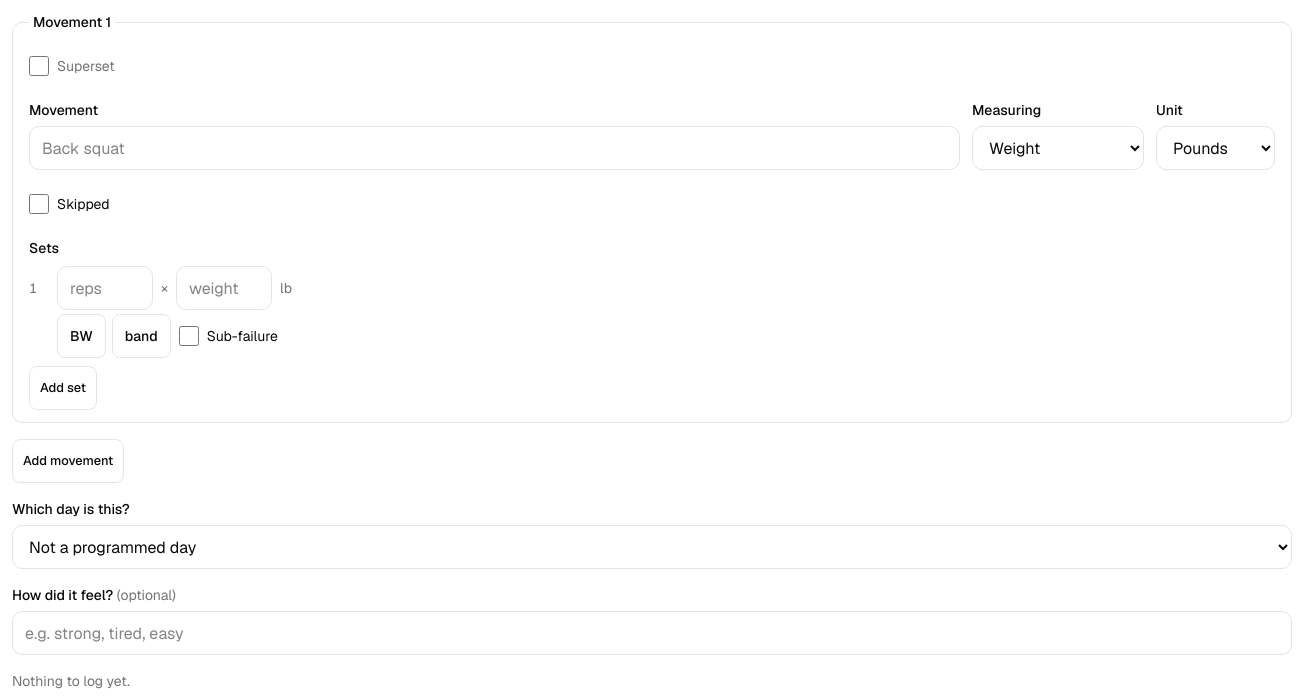
Scenario: StrengthForm — the summary line and the hint (V1-27 UX) › a payload of only skipped movements reads "Nothing to log yet."
The width and height of the screenshot is (1304, 698).
Type "Dips" into the field labelled "Movement" at (494, 148), box [29,126,960,170]
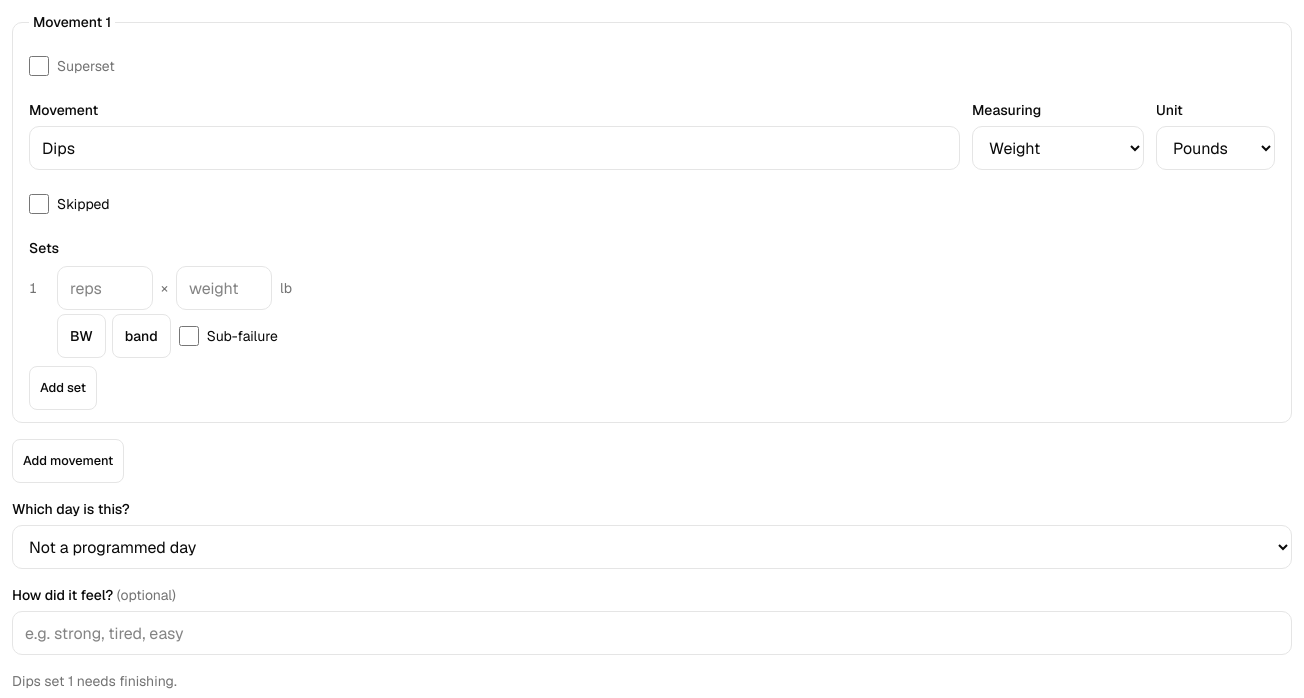
Click the checkbox named "movement 1 skipped" at (39, 204), box [29,194,49,214]
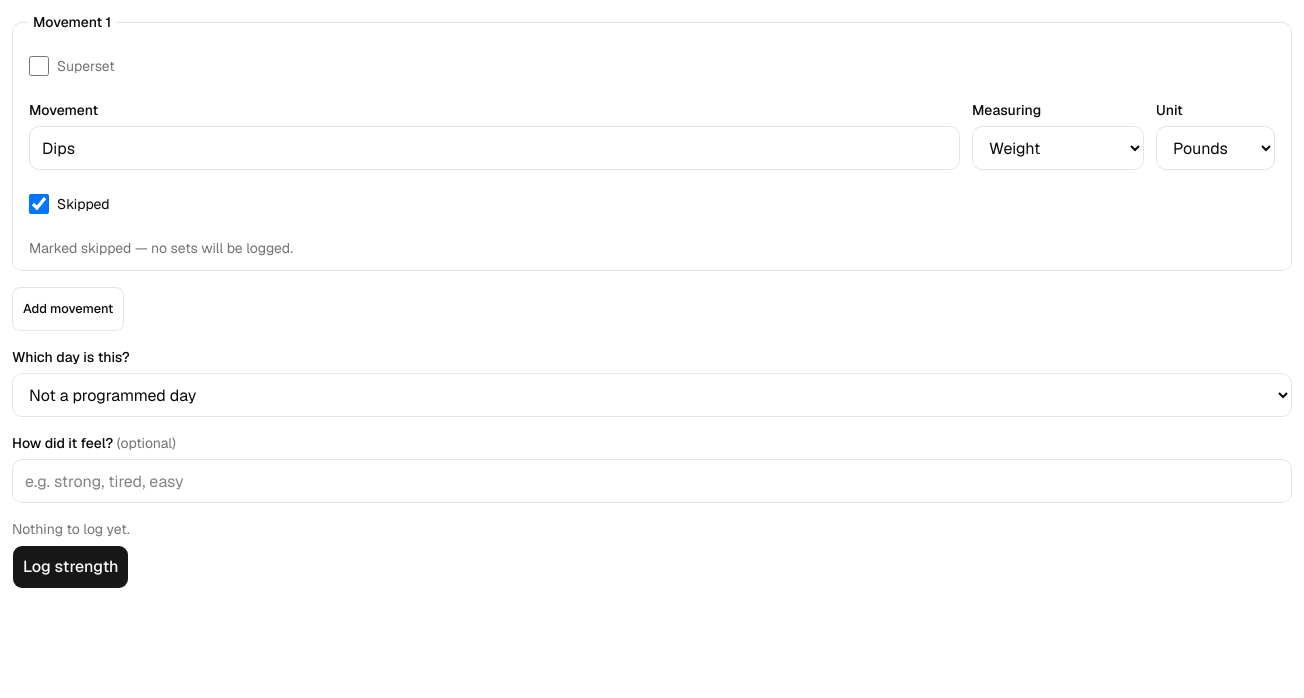
Check: the text "Nothing to log yet." is shown, box [12,520,130,538]
